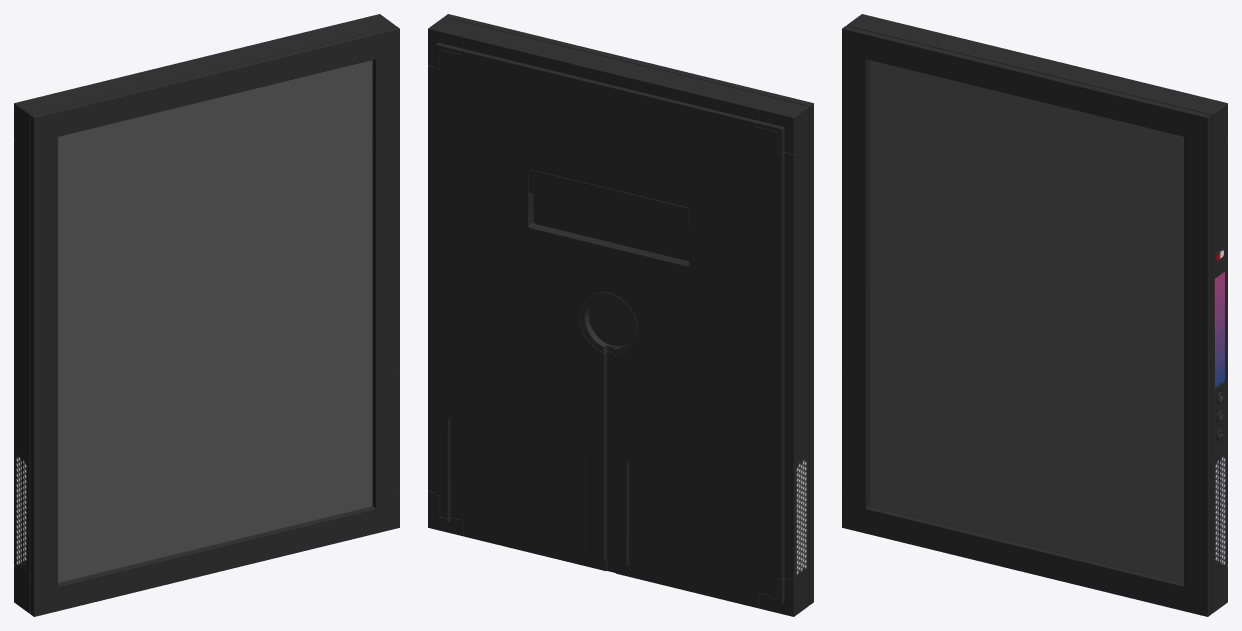
File: speaker.glb
The picture shows the model from 3 angles, left to right: view 1: azimuth 30°, elevation 25°; view 2: azimuth 150°, elevation 25°; view 3: azimuth 330°, elevation 25°; orthographic projection.
Parts seen in each view (by area): view 1: screen, frame; view 2: frame, screen.001; view 3: screen, frame.
Boxes of the visible parts, bbox=[...] form: screen: bbox=[58, 60, 372, 582]; frame: bbox=[14, 14, 399, 616]; frame: bbox=[428, 14, 813, 616]; screen.001: bbox=[458, 72, 764, 568]; screen: bbox=[869, 60, 1183, 582]; frame: bbox=[842, 14, 1227, 616].
Bounding box in the file's own units: 0.4929 × 0.64 × 0.0519.
Materials: 3 (1 with a texture image).
